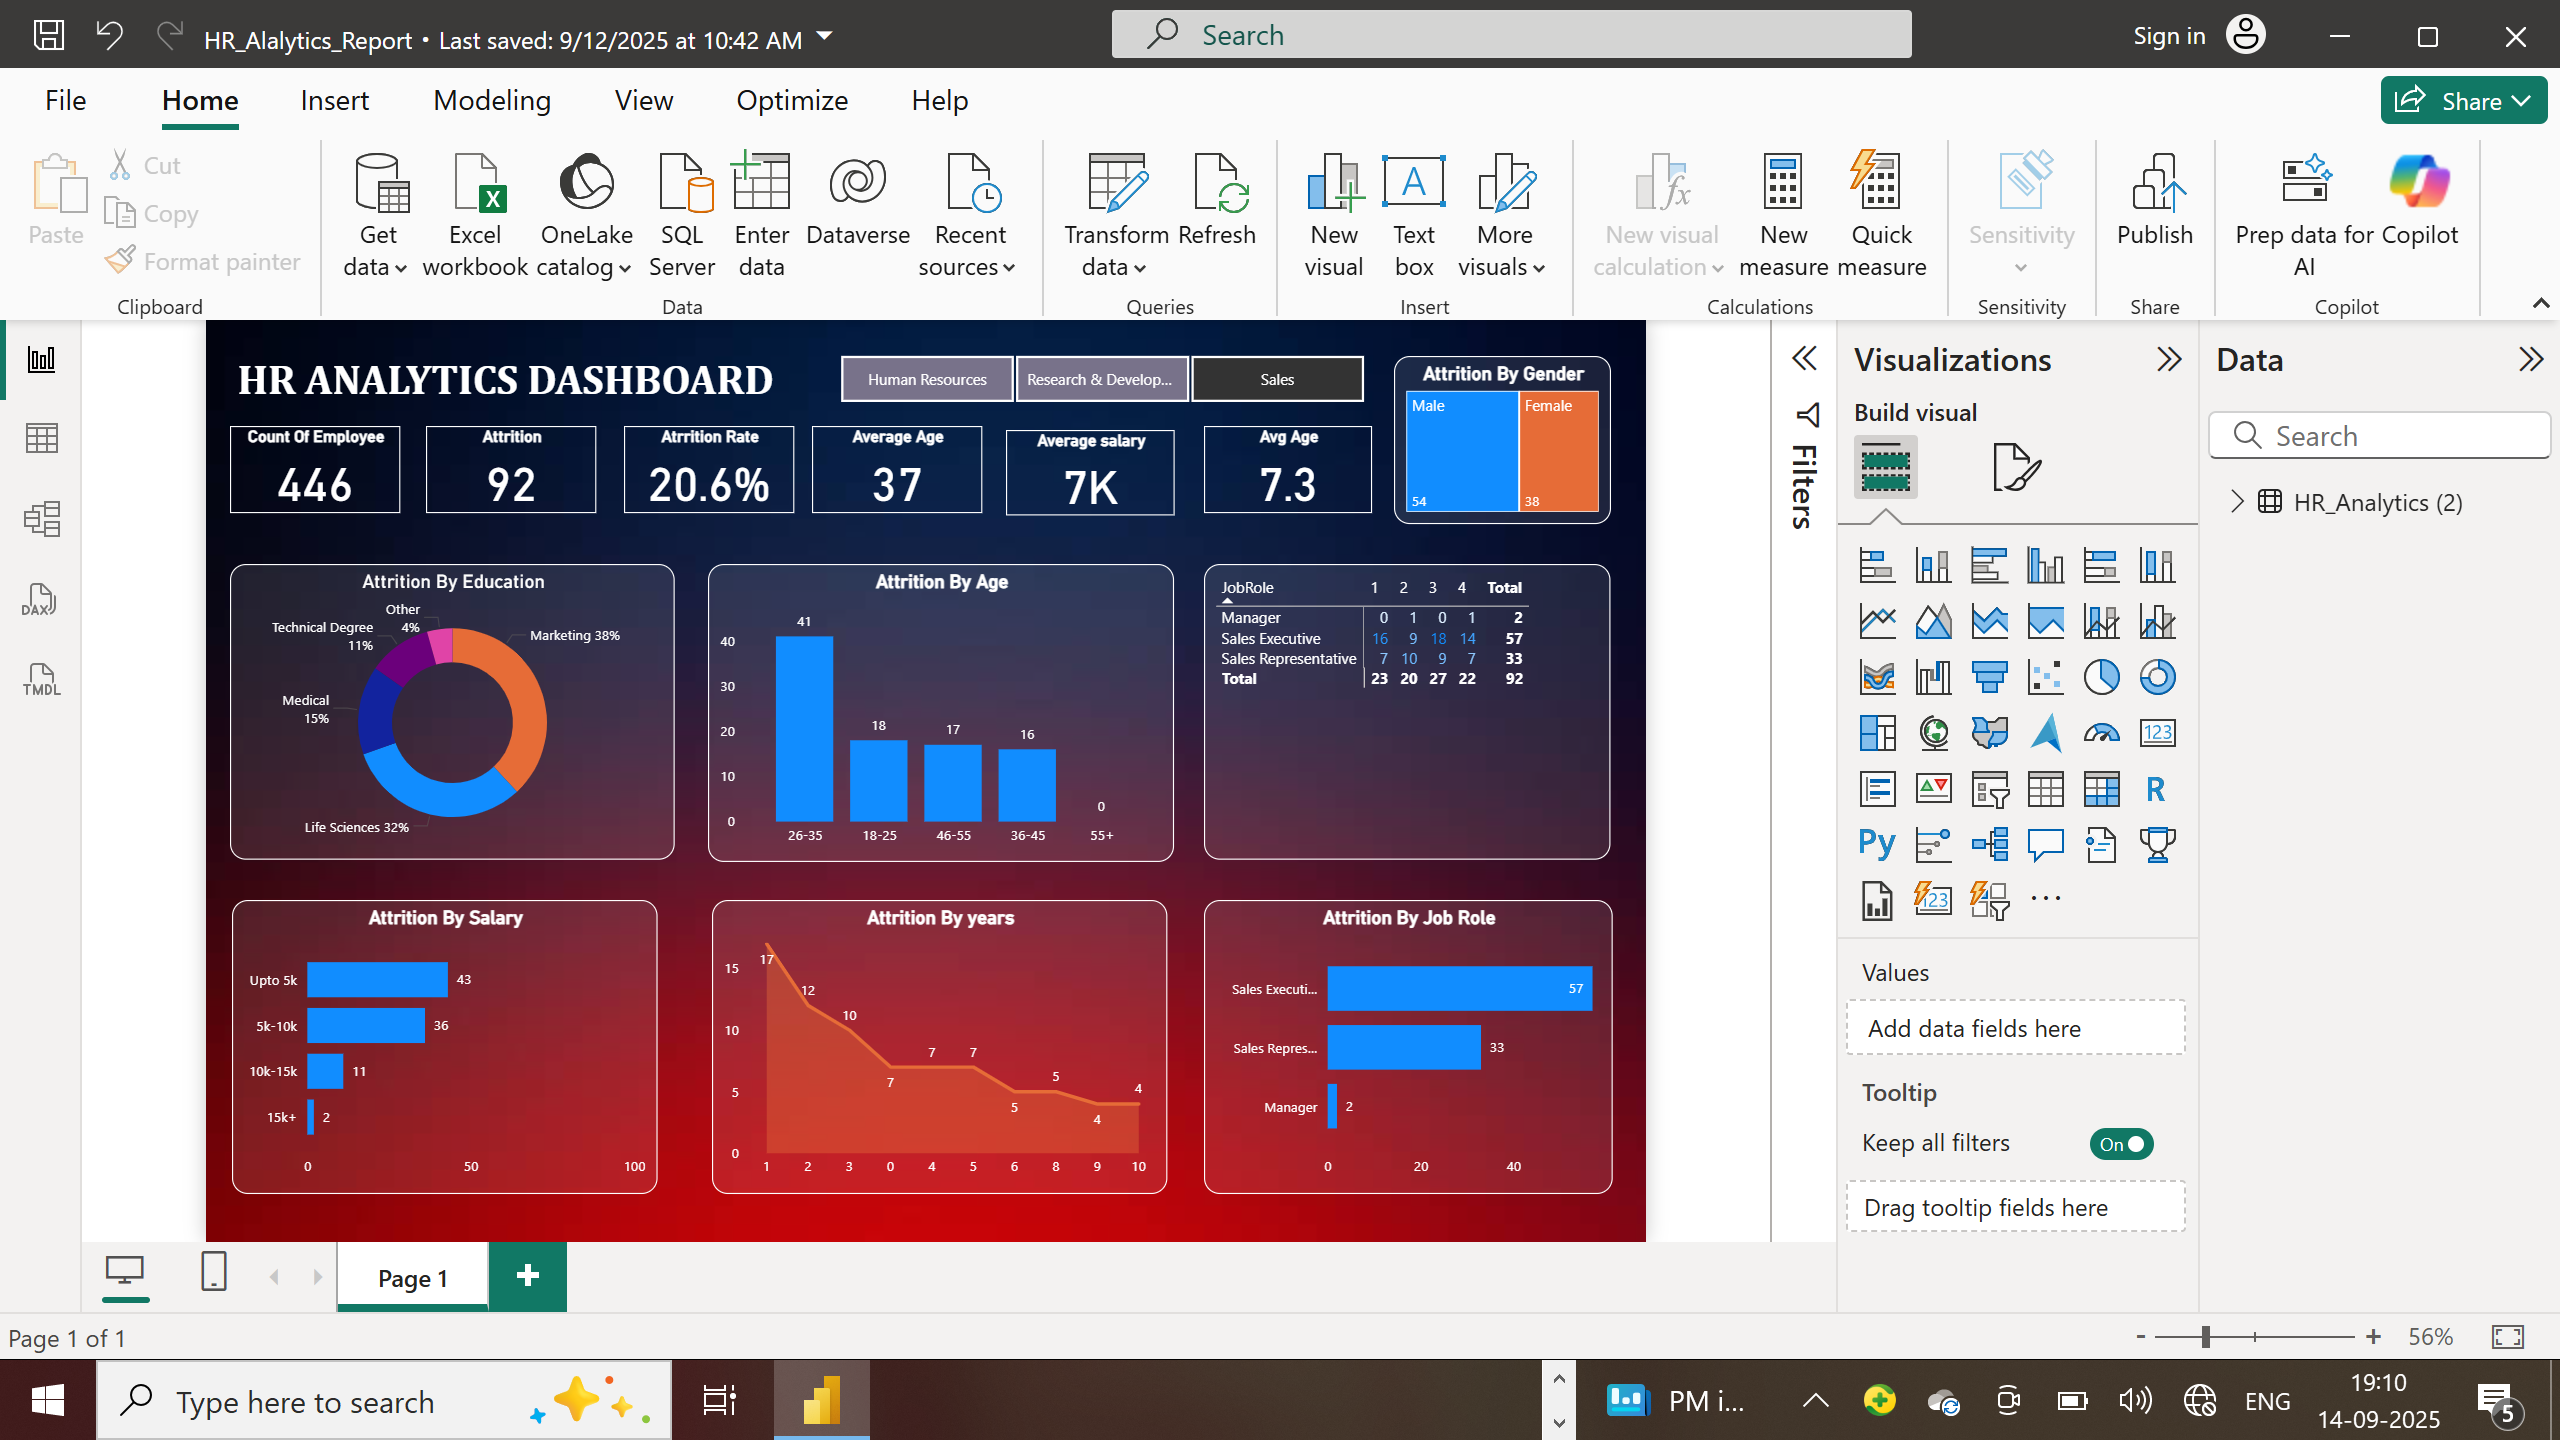

What the dashboard file says about the page in this screenshot:
{"tool":"powerbi","page":{"name":"Page 1","canvas":[1280,820],"ordinal":0},"visuals":[{"type":"card","title":"Count Of Employee","fields":{"Values":["CountNonNull(HR_Analytics (2).EmpID)"]},"box":[20.8,94.7,151.5,77.6],"z":0},{"type":"card","title":"Atrrition Rate","fields":{"Values":["HR_Analytics (2).attritionRate"]},"box":[371.1,94.7,151.5,77.6],"z":1000},{"type":"card","title":"Attrition","fields":{"Values":["Sum(HR_Analytics (2).AttritionCount)"]},"box":[195,94.7,151.5,77.6],"z":2000},{"type":"card","title":"Average Age","fields":{"Values":["Avg(HR_Analytics (2).Age)"]},"box":[539.6,94.7,151.5,77.6],"z":3000},{"type":"card","title":"Avg Age","fields":{"Values":["Avg(HR_Analytics (2).YearsAtCompany)"]},"box":[888,94.7,149.6,77.6],"z":4000},{"type":"card","title":"Average salary","fields":{"Values":["Avg(HR_Analytics (2).MonthlyIncome)"]},"box":[712.1,97.2,150.2,76.1],"z":5000},{"type":"donutChart","title":"Attrition By Education","fields":{"Category":["HR_Analytics (2).EducationField"],"Y":["Sum(HR_Analytics (2).AttritionCount)"]},"box":[20.8,217.8,395.7,263.2],"z":6000},{"type":"columnChart","title":"Attrition By Age","fields":{"Category":["HR_Analytics (2).AgeGroup"],"Y":["Sum(HR_Analytics (2).AttritionCount)"]},"box":[446.9,217.8,414.7,265.1],"z":7000},{"type":"pivotTable","fields":{"Rows":["HR_Analytics (2).JobRole"],"Columns":["HR_Analytics (2).JobSatisfaction"],"Values":["Sum(HR_Analytics (2).AttritionCount)"]},"box":[888,217.8,361.7,263.2],"z":8000},{"type":"clusteredBarChart","title":"Attrition By Job Role","fields":{"Category":["HR_Analytics (2).JobRole"],"Y":["Sum(HR_Analytics (2).AttritionCount)"]},"box":[888,515,363.6,261.3],"z":9000},{"type":"clusteredBarChart","title":"Attrition By Salary","fields":{"Category":["HR_Analytics (2).SalarySlab"],"Y":["Sum(HR_Analytics (2).AttritionCount)"]},"box":[22.7,515,378.7,261.3],"z":10000},{"type":"areaChart","title":"Attrition By years","fields":{"Category":["HR_Analytics (2).YearsAtCompany"],"Y":["Sum(HR_Analytics (2).AttritionCount)"]},"box":[450.7,515,405.2,261.3],"z":11000},{"type":"treemap","title":"Attrition By Gender","fields":{"Group":["HR_Analytics (2).Gender"],"Values":["Sum(HR_Analytics (2).AttritionCount)"]},"box":[1056.6,32.2,193.1,149.6],"z":12000},{"type":"slicer","fields":{"Values":["HR_Analytics (2).Department"]},"box":[539.6,24.6,515,54.9],"z":13000},{"type":"textbox","box":[22.7,24.6,516.9,70.1],"z":14000}]}

Visuals, with their boxes on the page's 1280x820 design canvas (x1, y1, x2, y2). These are canvas units, not pixel positions in the 2560x1440 screenshot, which may show the page scaled, cropped or inside an application window:
"Count Of Employee" card: crop(21, 95, 172, 172)
"Atrrition Rate" card: crop(371, 95, 523, 172)
"Attrition" card: crop(195, 95, 346, 172)
"Average Age" card: crop(540, 95, 691, 172)
"Avg Age" card: crop(888, 95, 1038, 172)
"Average salary" card: crop(712, 97, 862, 173)
"Attrition By Education" donutChart: crop(21, 218, 416, 481)
"Attrition By Age" columnChart: crop(447, 218, 862, 483)
pivotTable - HR_Analytics (2).JobRole x HR_Analytics (2).JobSatisfaction: crop(888, 218, 1250, 481)
"Attrition By Job Role" clusteredBarChart: crop(888, 515, 1252, 776)
"Attrition By Salary" clusteredBarChart: crop(23, 515, 401, 776)
"Attrition By years" areaChart: crop(451, 515, 856, 776)
"Attrition By Gender" treemap: crop(1057, 32, 1250, 182)
slicer - HR_Analytics (2).Department: crop(540, 25, 1055, 80)
textbox: crop(23, 25, 540, 95)
